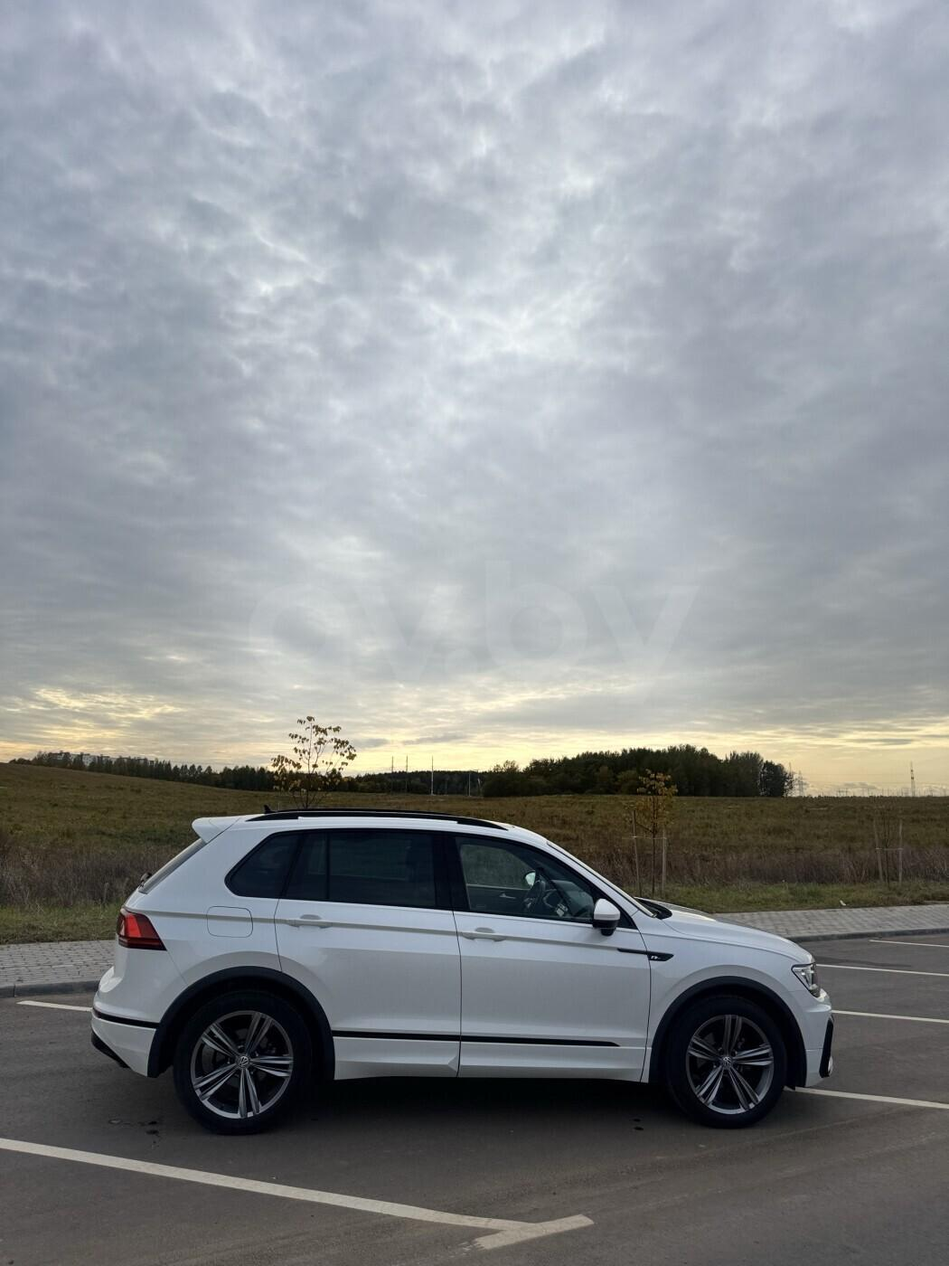Tiguan_2016-2021: (94, 805, 833, 1132)
